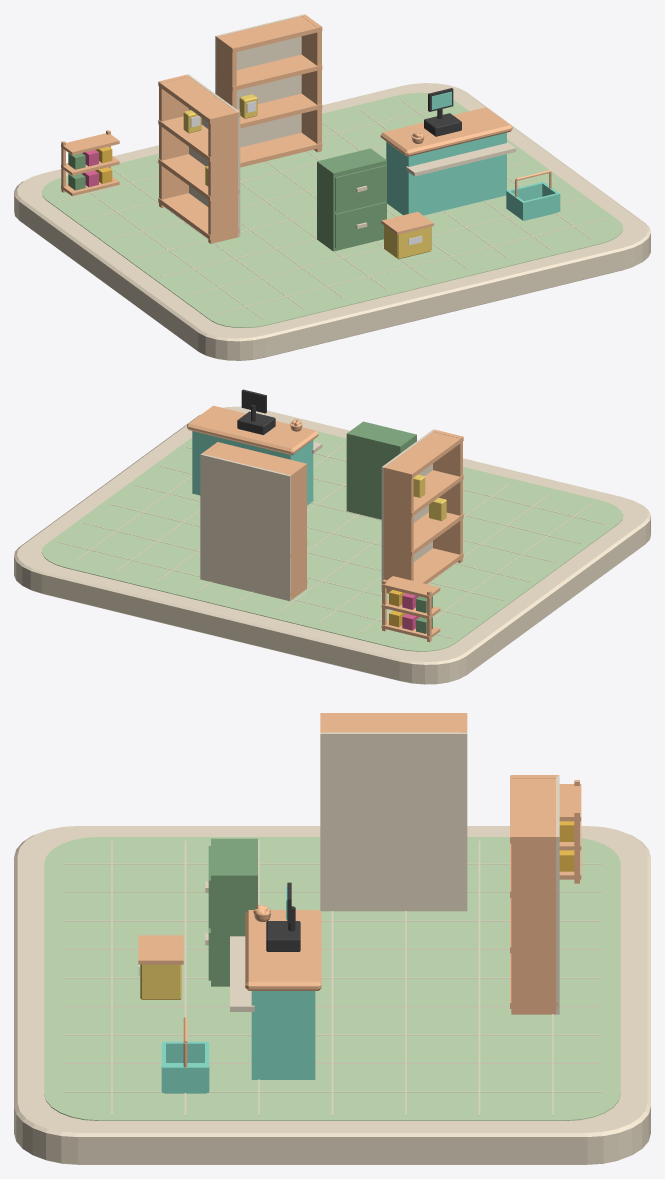
File: room.fbx
The picture shows the model from 3 angles, top to bottom: view 1: azimuth 30°, elevation 25°; view 2: azimuth 150°, elevation 25°; view 3: azimuth 270°, elevation 25°; orthographic projection. The views are drawn at different scales.
Parts seen in each view (by area): view 1: COM-02 Floor Surface, COM-01 Rounded Base Direct, Counter body, Cabinet, Back.001, Side.001, Countertop, Side, Side.003, Shelf.007, Shelf.006, Shelf.003 (+14 smaller); view 2: COM-02 Floor Surface, COM-01 Rounded Base Direct, Back.001, Cabinet, Side, Countertop, Side.002, Side.001, Counter body, Shelf.003, Shelf.007, Shelf.001 (+6 smaller); view 3: COM-02 Floor Surface, COM-01 Rounded Base Direct, Back, Side.003, Counter body, Cabinet, Countertop, Shelf.007, Shelf.003, Box, Lid, Visitor shelf (+10 smaller).
Boxes of the visible parts, bbox=[...] form: COM-02 Floor Surface: bbox=[41, 92, 622, 327]; COM-01 Rounded Base Direct: bbox=[14, 83, 650, 360]; Counter body: bbox=[386, 132, 506, 215]; Cabinet: bbox=[317, 148, 386, 251]; Back.001: bbox=[215, 14, 305, 147]; Side.001: bbox=[208, 110, 238, 243]; Countertop: bbox=[380, 107, 512, 156]; Side: bbox=[159, 75, 189, 207]; Side.003: bbox=[301, 15, 321, 152]; Shelf.007: bbox=[216, 16, 322, 52]; Shelf.006: bbox=[215, 54, 322, 91]; Shelf.003: bbox=[158, 77, 239, 123]; COM-02 Floor Surface: bbox=[41, 431, 623, 651]; COM-01 Rounded Base Direct: bbox=[14, 406, 650, 684]; Back.001: bbox=[200, 453, 291, 601]; Cabinet: bbox=[346, 421, 416, 519]; Side: bbox=[384, 465, 413, 593]; Countertop: bbox=[187, 405, 318, 454]; Side.002: bbox=[286, 463, 306, 599]; Side.001: bbox=[433, 429, 462, 562]; Counter body: bbox=[192, 431, 313, 505]; Shelf.003: bbox=[382, 432, 463, 478]; Shelf.007: bbox=[206, 442, 307, 474]; Shelf.001: bbox=[382, 512, 463, 555]; COM-02 Floor Surface: bbox=[44, 837, 620, 1120]; COM-01 Rounded Base Direct: bbox=[14, 826, 650, 1164]; Back: bbox=[320, 732, 467, 911]; Side.003: bbox=[511, 834, 557, 1014]; Counter body: bbox=[251, 991, 315, 1079]; Cabinet: bbox=[205, 838, 257, 986]; Countertop: bbox=[245, 910, 321, 990]; Shelf.007: bbox=[510, 775, 558, 843]; Shelf.003: bbox=[320, 713, 466, 732]; Box: bbox=[140, 964, 181, 999]; Lid: bbox=[138, 935, 183, 964]; Visitor shelf: bbox=[230, 936, 254, 1011].
Bounding box in the file's own units: 600 × 190 × 520.
